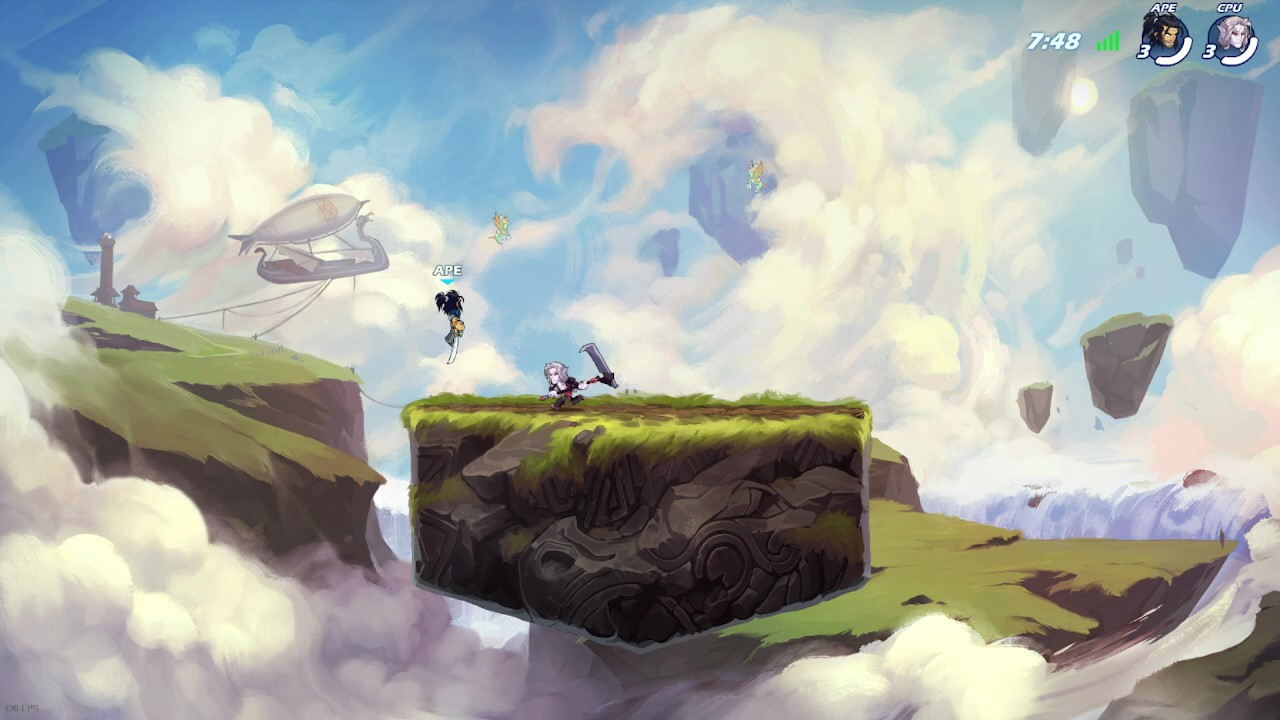koji: (435, 290, 465, 347)
koji_health_white: (1154, 15, 1193, 66)
koji_lives_3: (1136, 11, 1184, 59)
time_seconds_468: (1027, 32, 1082, 49)
volkov: (544, 361, 588, 410), (542, 359, 586, 408)
volkov_health_white: (1220, 16, 1259, 66)
volkov_lives_3: (1202, 15, 1256, 59)
